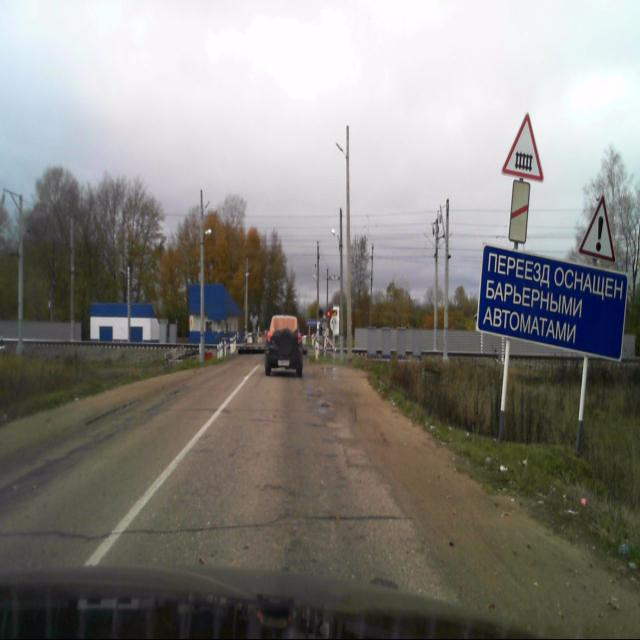road sign: (478, 244, 627, 363), (501, 109, 544, 180), (578, 198, 616, 263), (574, 355, 590, 457), (508, 180, 532, 247), (496, 340, 511, 442)
